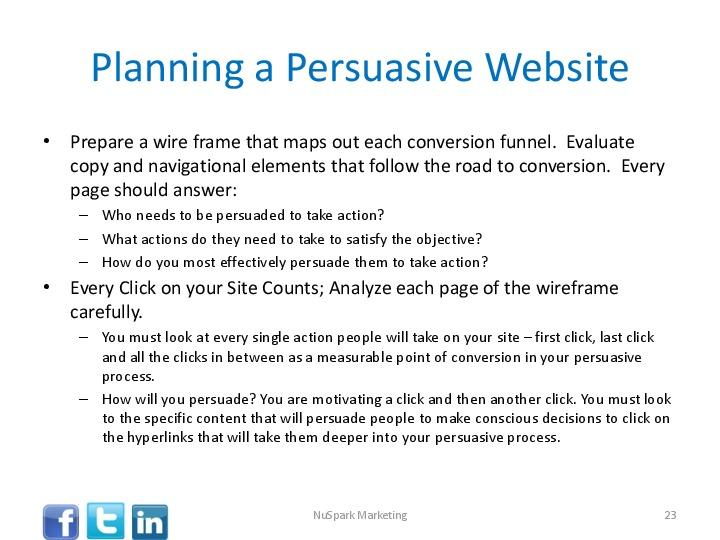paragraph: (20, 112, 705, 481)
subtitle: (295, 502, 453, 532)
title: (75, 36, 645, 103)
